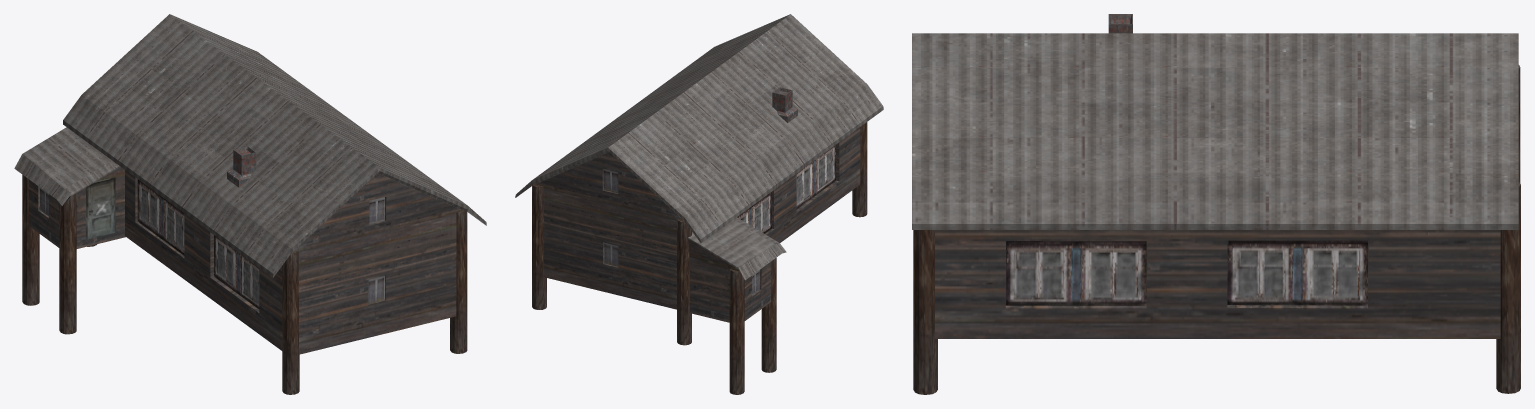
File: ForestHouse.fbx
The picture shows the model from 3 angles, left to right: view 1: azimuth 30°, elevation 25°; view 2: azimuth 150°, elevation 25°; view 3: azimuth 270°, elevation 25°; orthographic projection. The views are drawn at different scales.
Visible parts, largest first — view 1: OldHouse; view 2: OldHouse; view 3: OldHouse.
Part boxes in pixels (<box>): OldHouse: <box>14,14,486,394</box>; OldHouse: <box>515,14,883,394</box>; OldHouse: <box>912,14,1520,394</box>.
Size of the model in its own units: 8.97 by 8.18 by 12.44.
